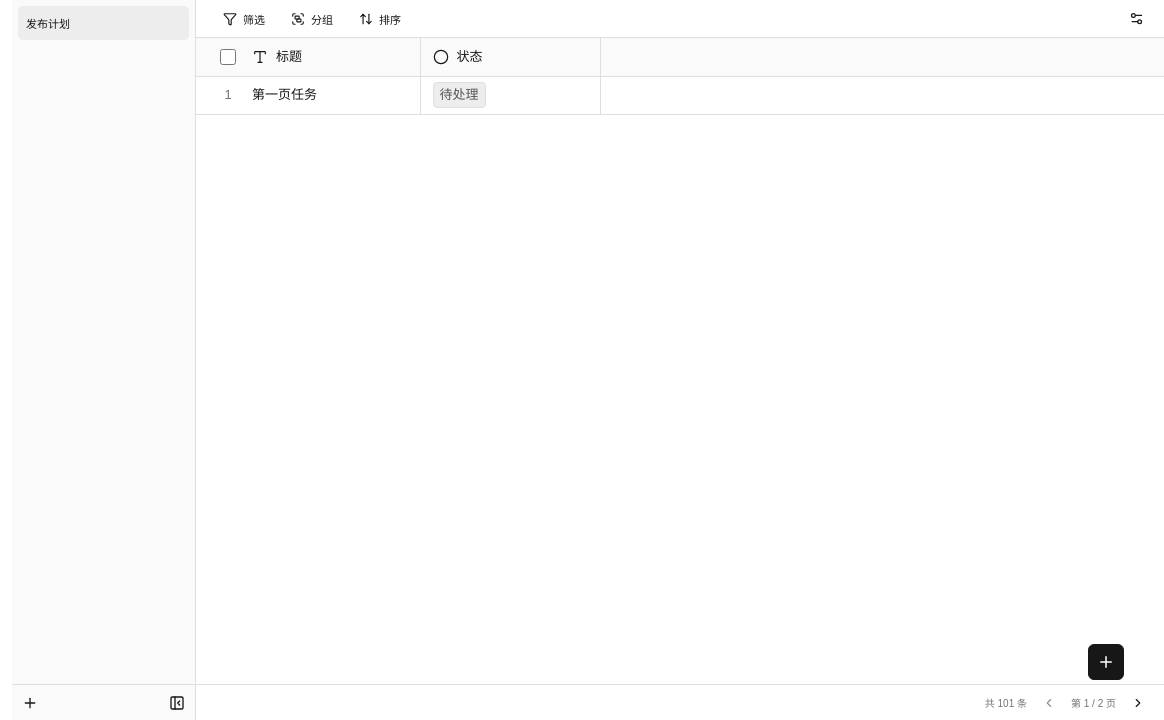
TaskWorkbenchPage › loads the next 100-record page from Main
What coordinates should you click on to do the following:
click the button named "下一页"
I would click on:
 (1138, 702)
Its box is 1124,688 -> 1152,716.
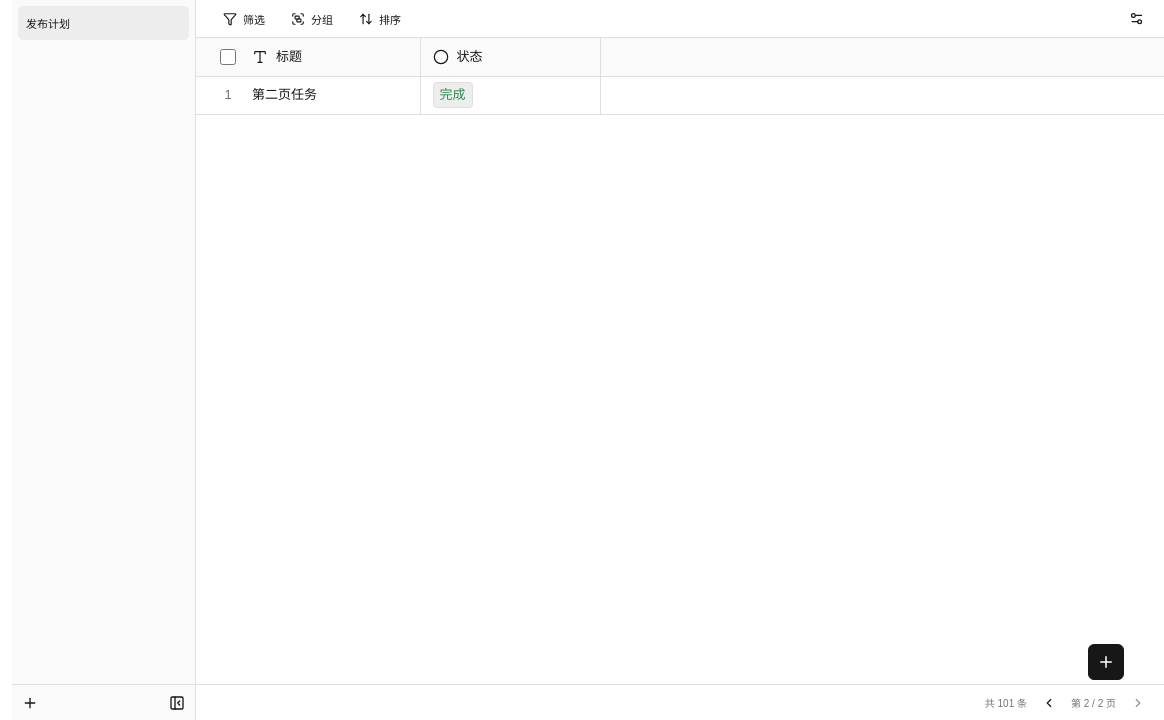
Now the button "第二页任务" is shown, box 240,76 -> 420,114
Now the text "第 2 / 2 页" is shown, box 1071,698 -> 1116,709
